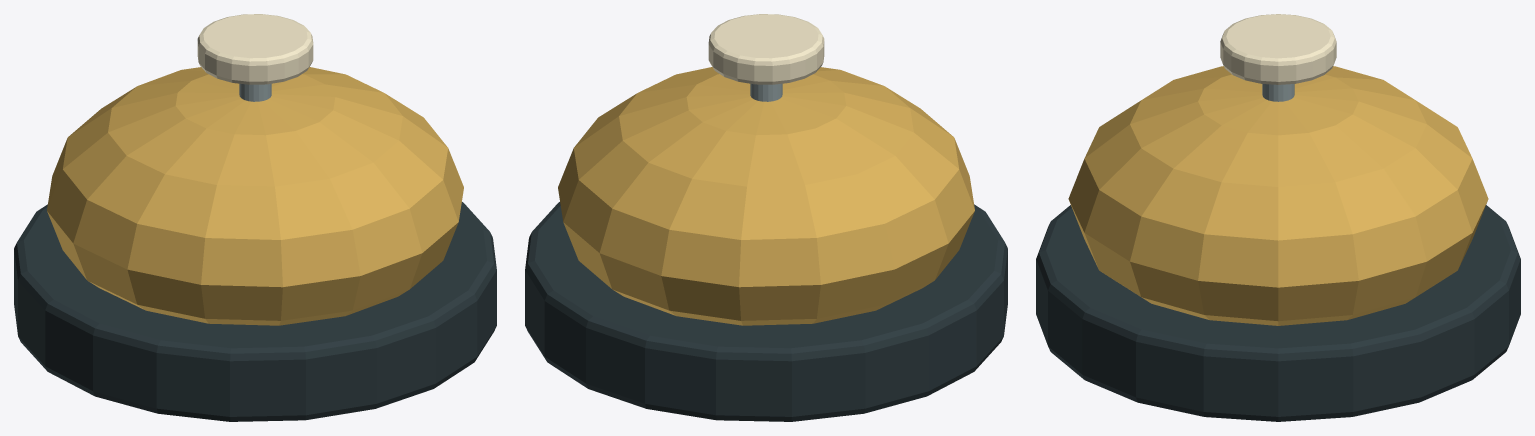
The model's file is P085_desk_bell.glb.
3 views of the same model, side by side, from view 1: azimuth 30°, elevation 25°; view 2: azimuth 150°, elevation 25°; view 3: azimuth 270°, elevation 25° (orthographic).
Parts seen in each view (by area): view 1: P085_bell_002, P085_base_001, P085_button_004, P085_button_stem_003; view 2: P085_bell_002, P085_base_001, P085_button_004, P085_button_stem_003; view 3: P085_bell_002, P085_base_001, P085_button_004, P085_button_stem_003.
Boxes of the visible parts, box(x1,y1,x2,y2) form: P085_bell_002: box(47, 67, 463, 325); P085_base_001: box(14, 202, 496, 421); P085_button_004: box(197, 14, 313, 84); P085_button_stem_003: box(239, 83, 271, 101); P085_bell_002: box(558, 67, 974, 325); P085_base_001: box(525, 202, 1007, 421); P085_button_004: box(708, 14, 824, 84); P085_button_stem_003: box(750, 83, 782, 101); P085_bell_002: box(1068, 66, 1488, 325); P085_base_001: box(1036, 205, 1520, 421); P085_button_004: box(1220, 14, 1336, 84); P085_button_stem_003: box(1262, 84, 1294, 101).
Size of the model in its own units: 0.15 by 0.098 by 0.15.
